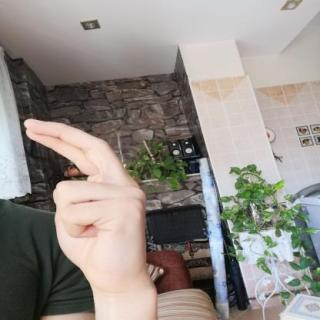ZAY: (13, 113, 156, 291)
